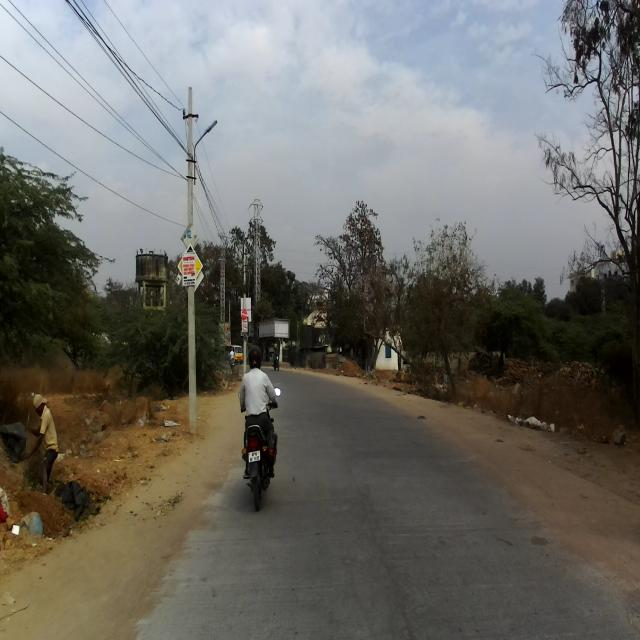electric pole ahead at: (174, 83, 223, 434)
motorcycle ahead at: (238, 418, 284, 514)
